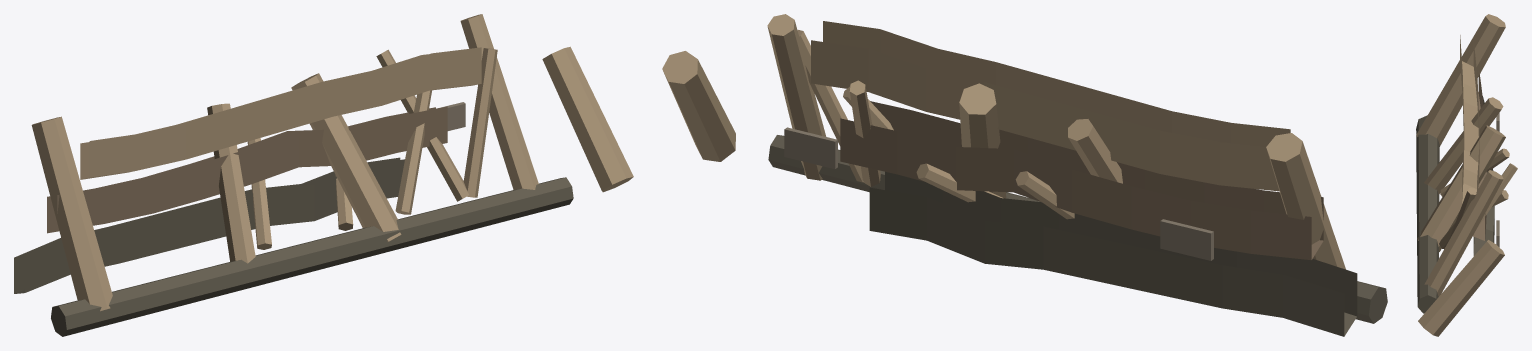
File: wreck_section_a.glb
3 renders of one model, left to right at view 1: azimuth 30°, elevation 25°; view 2: azimuth 150°, elevation 25°; view 3: azimuth 270°, elevation 25°, orthographic. The views are drawn at different scales.
Visible parts, largest first — view 1: wreck_section_a LOD0; view 2: wreck_section_a LOD0; view 3: wreck_section_a LOD0.
Part boxes in pixels (left/top/right/bottom): wreck_section_a LOD0: left=14, top=14, right=633, bottom=336; wreck_section_a LOD0: left=662, top=14, right=1387, bottom=336; wreck_section_a LOD0: left=1416, top=14, right=1517, bottom=336.
Size of what is drawn, in the model's own units: 3.66 by 1.08 by 0.7499.
